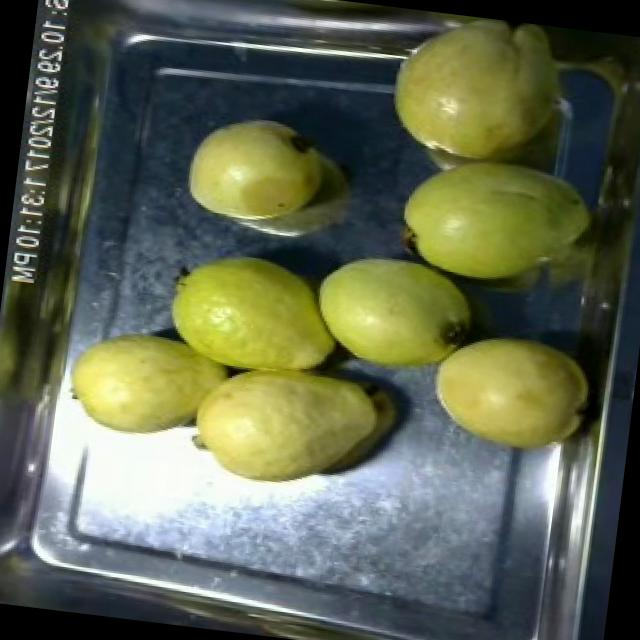Fruit: (174, 356, 412, 514), (382, 138, 604, 306), (375, 6, 580, 182), (150, 235, 360, 388), (296, 238, 487, 394), (412, 318, 602, 470), (49, 313, 231, 457), (172, 104, 337, 242)
